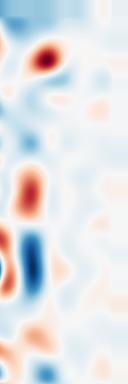filament: (8, 158, 49, 223), (20, 33, 68, 83)
